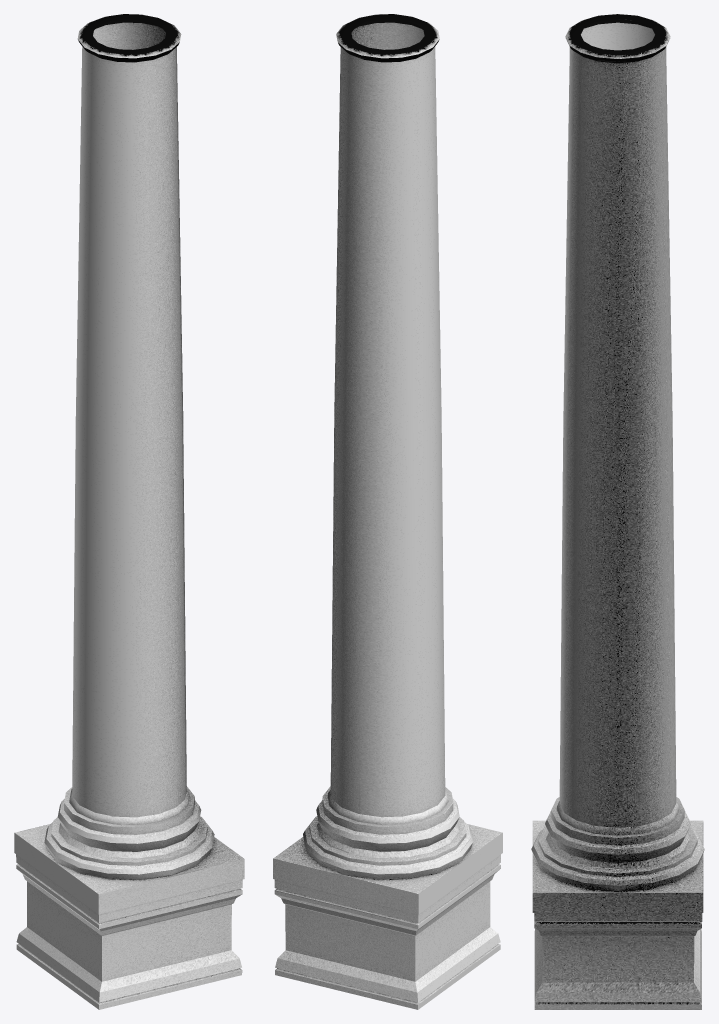
Rendered from column-court.glb.
3 renders of one model, left to right at view 1: azimuth 30°, elevation 25°; view 2: azimuth 150°, elevation 25°; view 3: azimuth 270°, elevation 25°, orthographic.
Visible parts, largest first — view 1: sockel; view 2: sockel; view 3: sockel.
Boxes of the visible parts, x1,y1,x2,y2 form: sockel: [14, 14, 244, 1009]; sockel: [273, 14, 502, 1009]; sockel: [531, 14, 704, 1009].
Size of the model in its own units: 0.6941 by 4.15 by 0.6941.
Materials: 1 (1 with a texture image).
